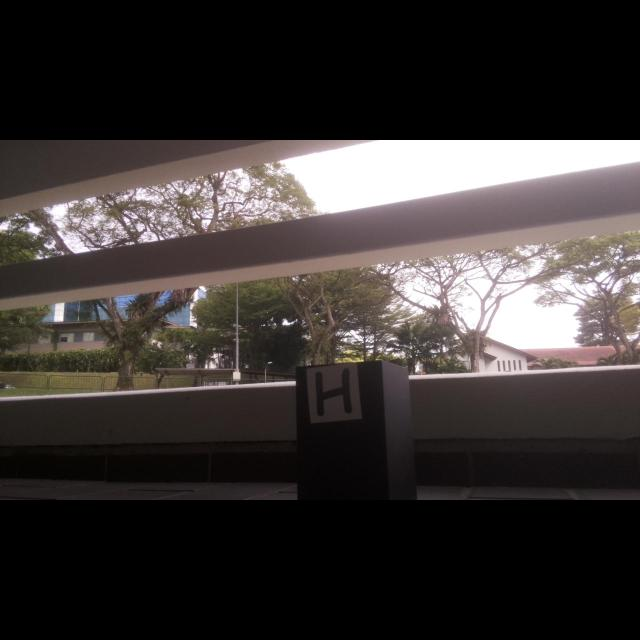H: (315, 368, 352, 416)
